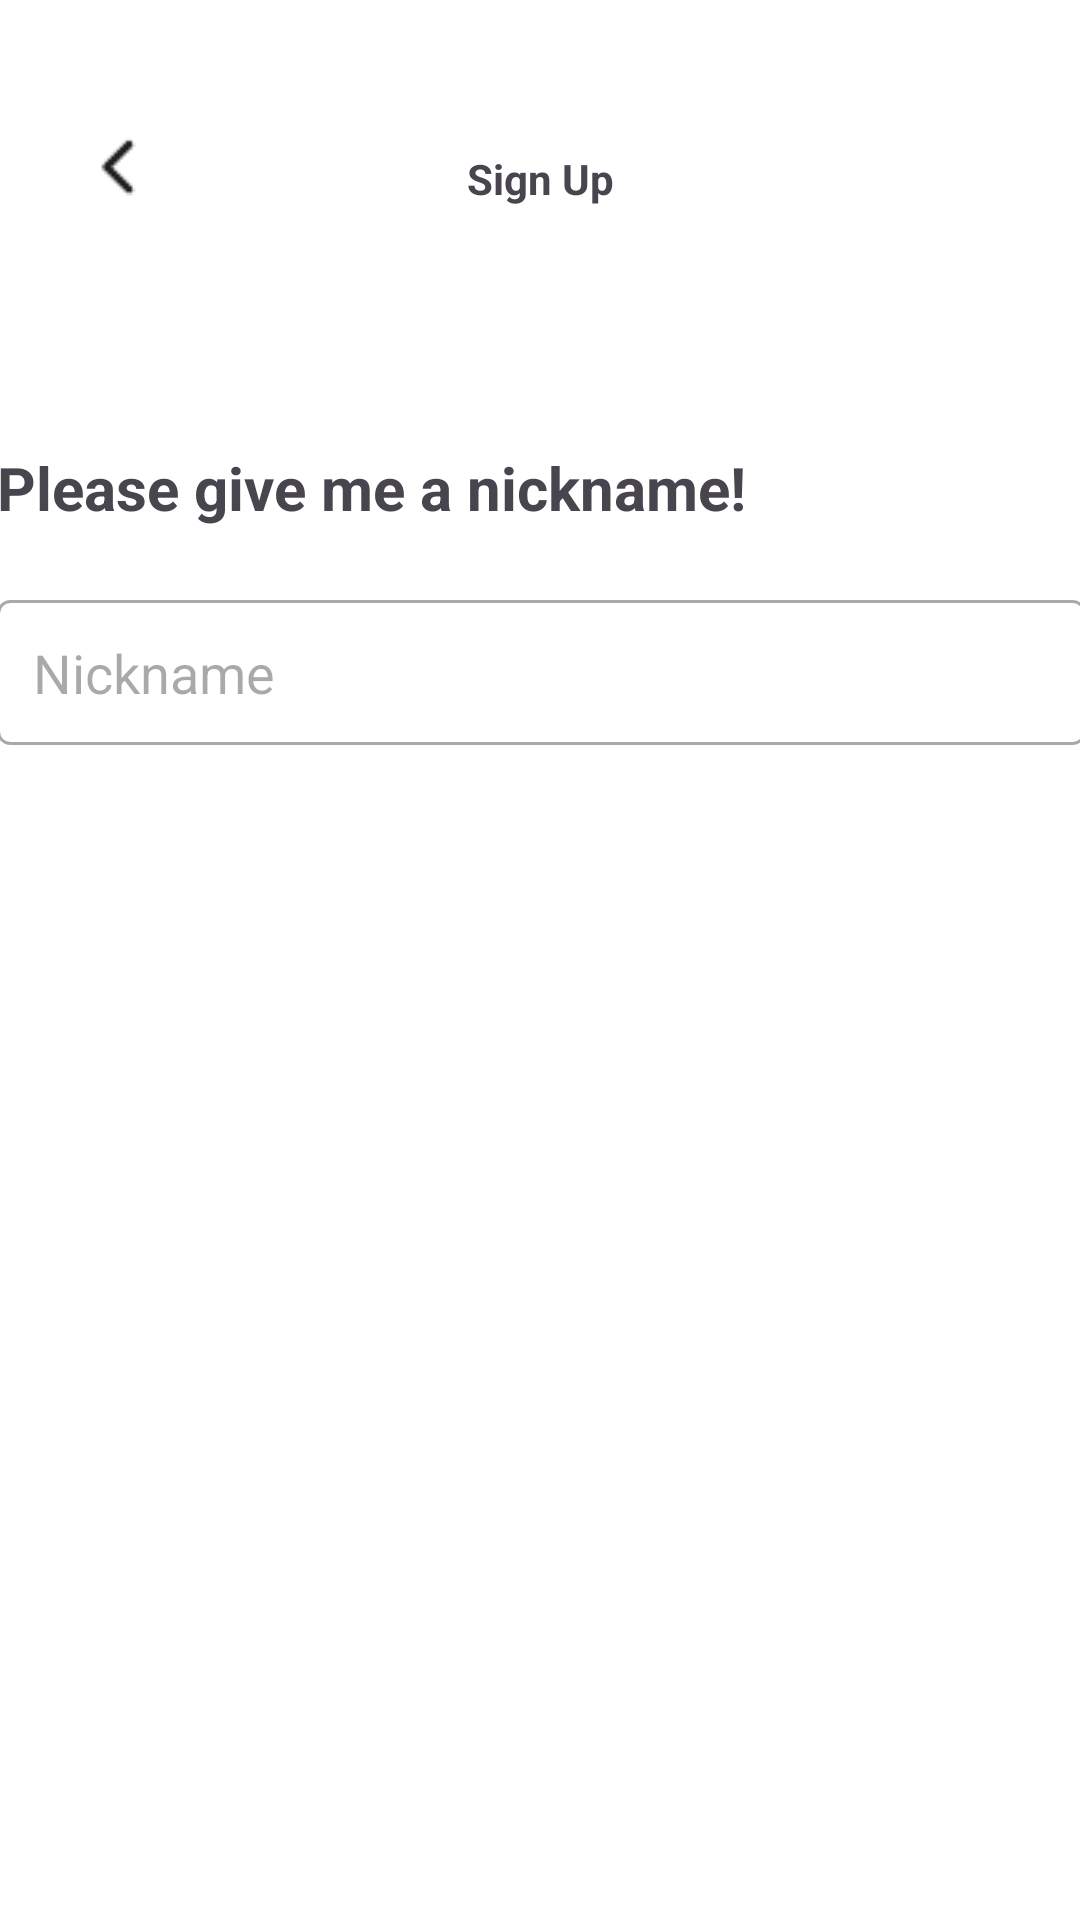

Where to tap for icons on this 1080px x 1920px app screen, as (x=x, y=y):
back: (x=118, y=167)
